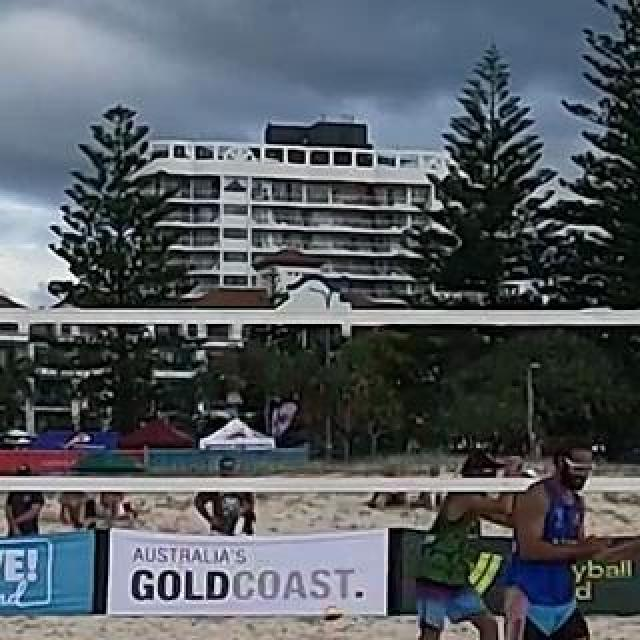volleyball: (322, 604, 344, 624)
